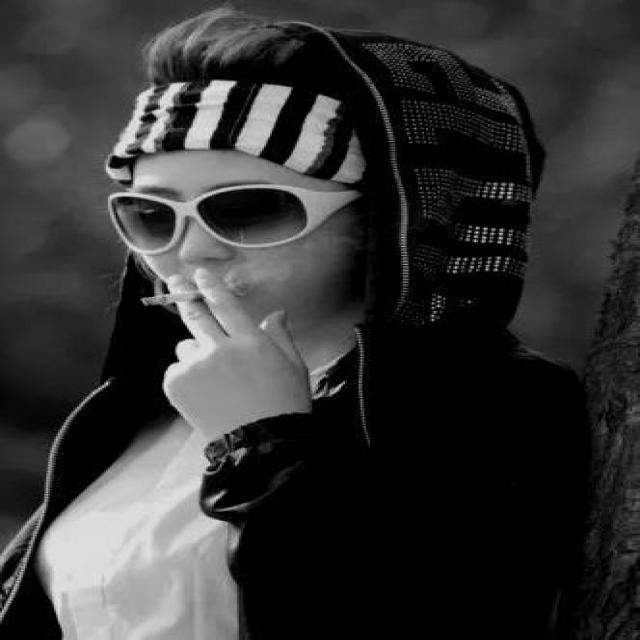cigarette: (131, 270, 247, 319)
